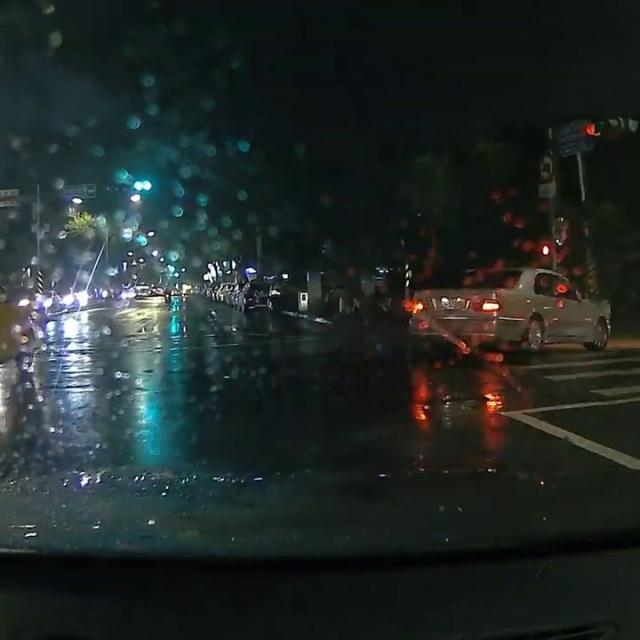Car: (400, 263, 612, 356), (240, 281, 274, 319)
